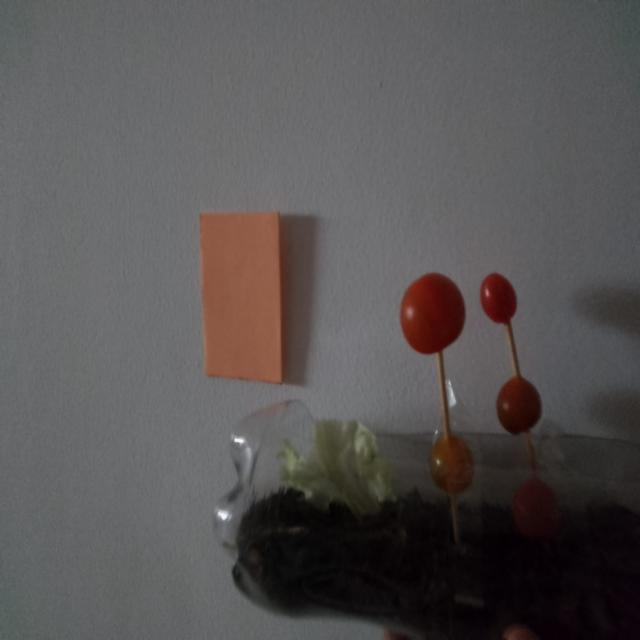card: (201, 212, 282, 382)
fruit_maturation: (431, 435, 473, 495)
fully_grown: (401, 273, 466, 354), (513, 476, 561, 540), (496, 376, 542, 434), (481, 274, 517, 324)
